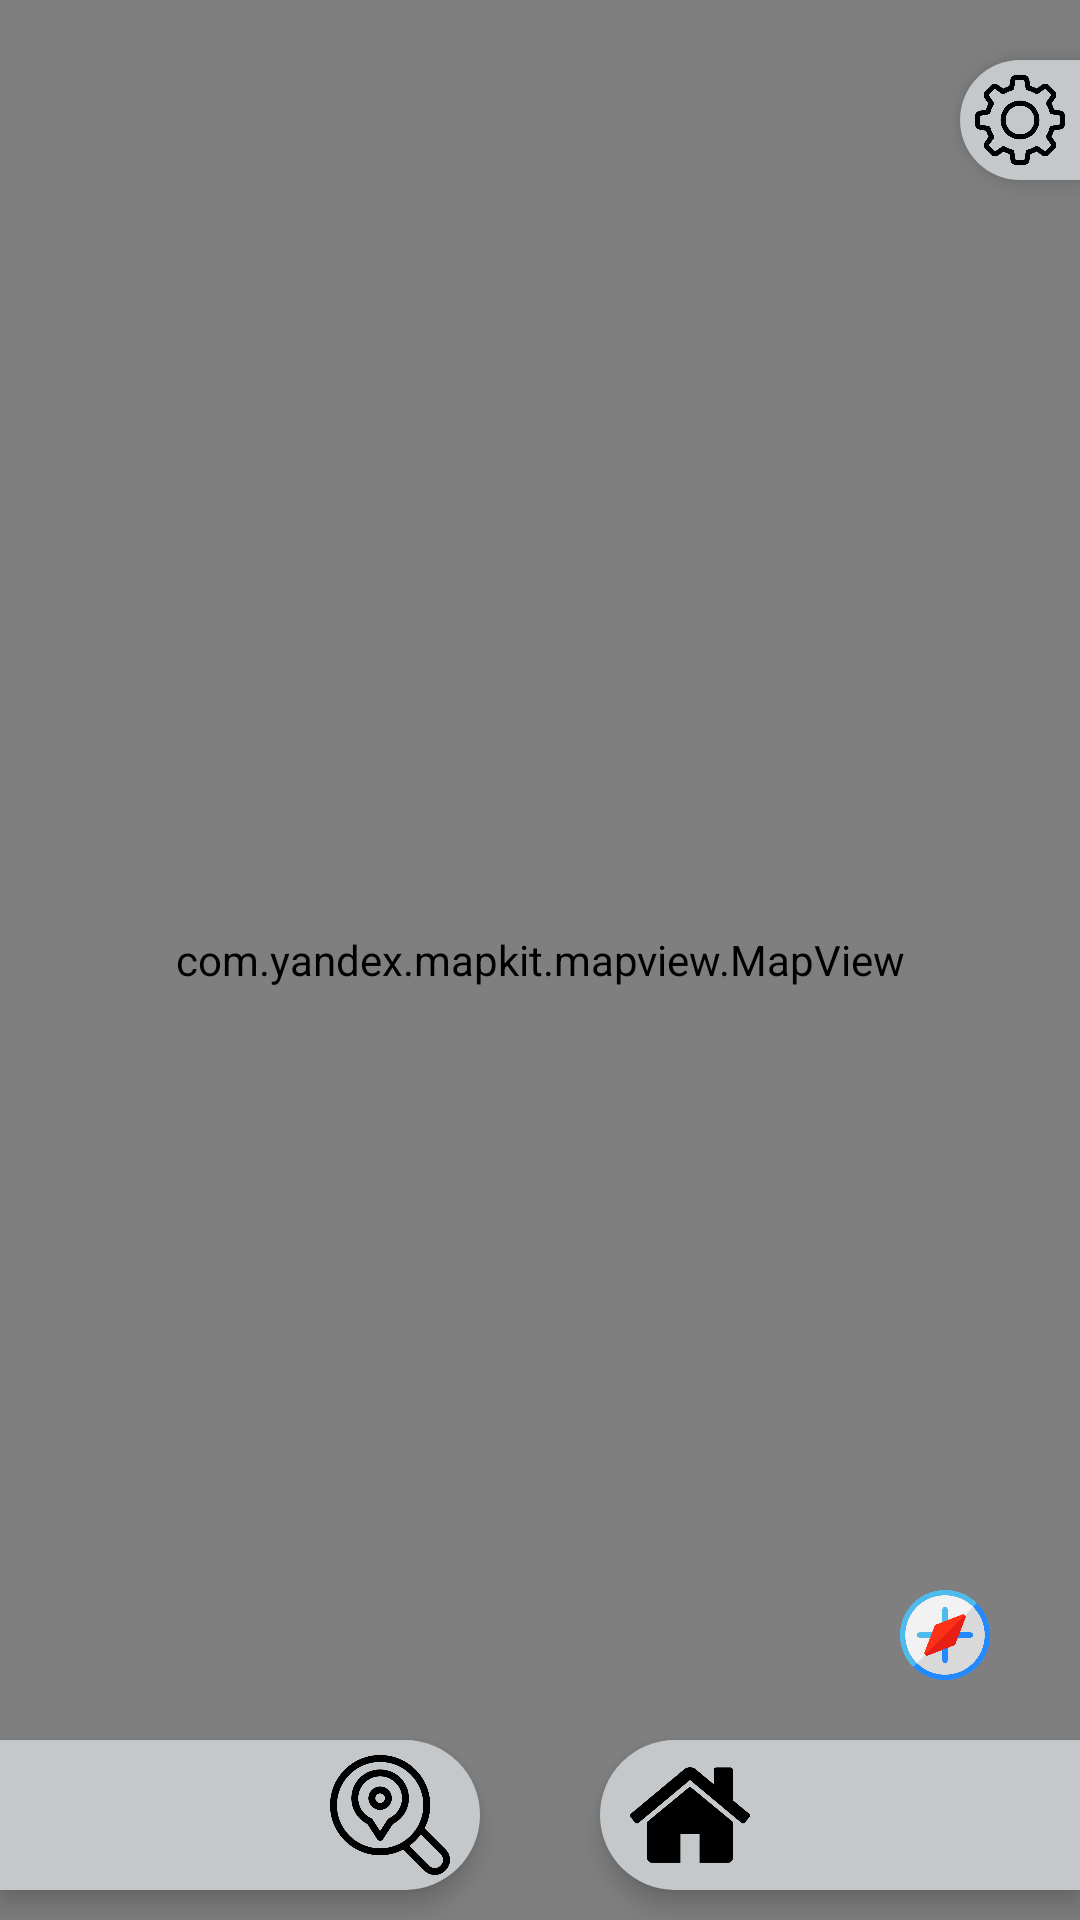

Icon click points for this 1080x1920 phone screenshot, format (x,y):
compass: (945,1635)
home: (690,1815)
settings: (1020,120)
